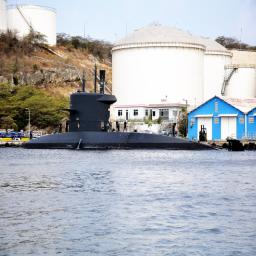submarine: (19, 64, 227, 148)
